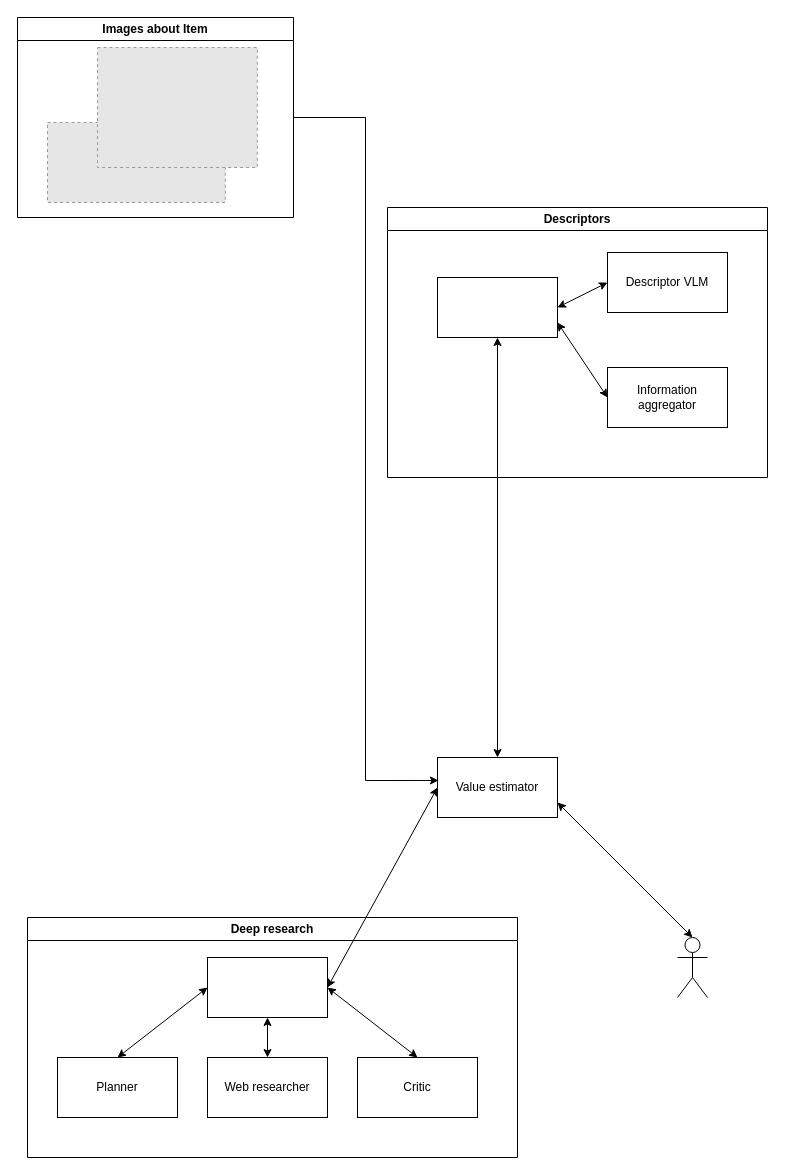
Some shapes in this 785 by 1175 pixel diagram are drawn without their labels. Grey dashed boxes stand in for pictures. The shapes that lost their labels are listed below. From the top down, each one's centre as x and y in pixels, then its label:
(497,307): Description manager
(267,987): Research manager
(692,967): Developer
